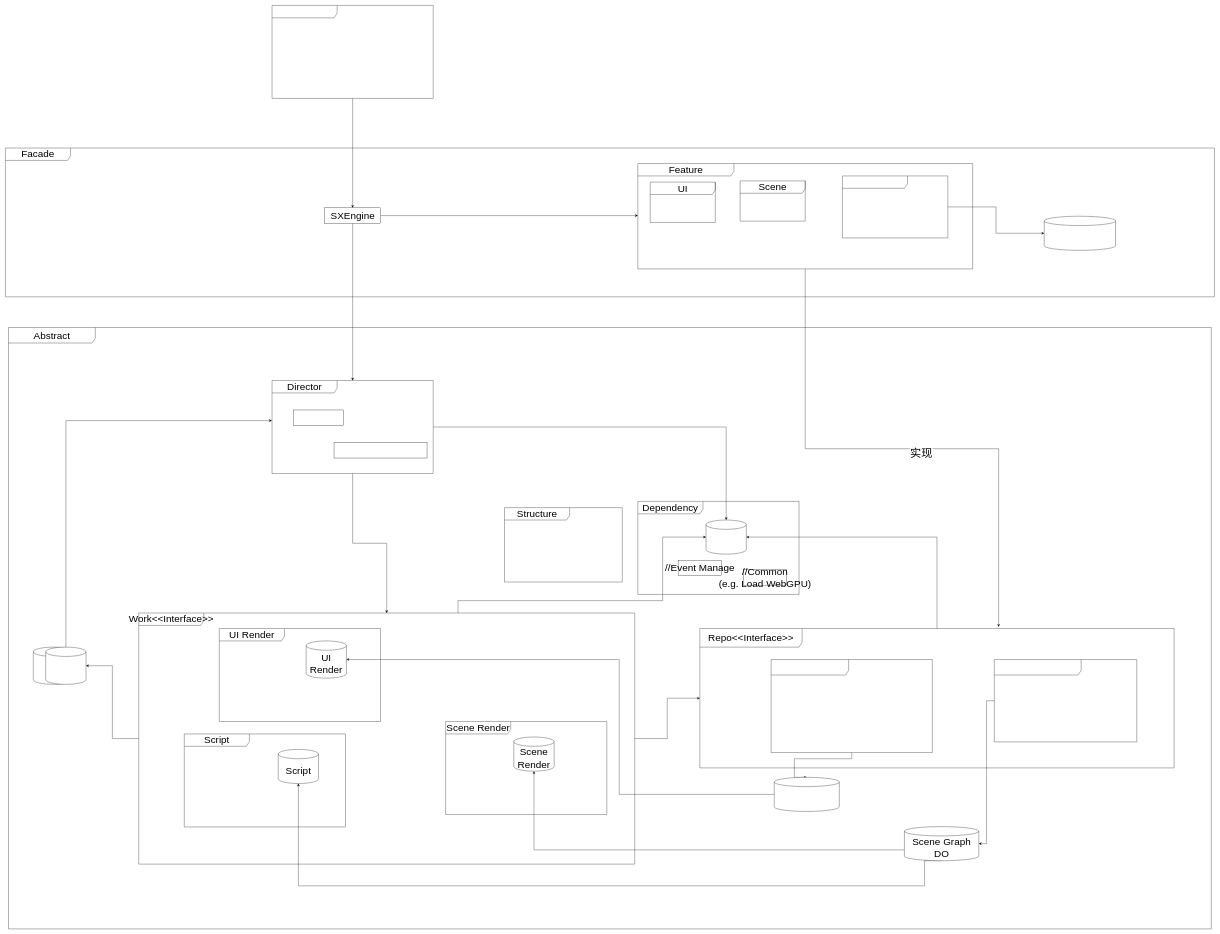
Some shapes in this 1220 by 934 pixel diagram are drawn without their labels. The centre of each missing label's shape, as x and y in pixels:
"API(Dependency)" belongs at [380,450].
"APP" belongs at [352,51].
"Asset" belongs at [895,207].
"DP Container" belongs at [726,537].
"init,update,render" belongs at [318,417].
"Jobs" belongs at [65,665].
"Scene Graph PO" belongs at [1080,233].
"Scene Graph Repo" belongs at [1065,700].
"UI Graph DO" belongs at [806,794].
"UI Graph Repo" belongs at [851,706].
